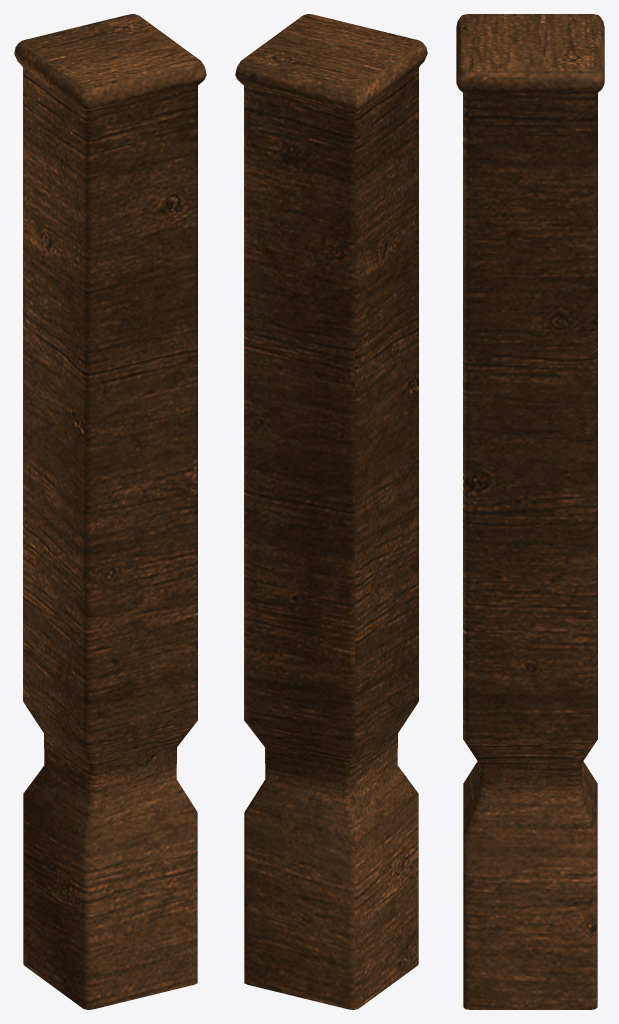
Rendered from MerdivenKorkulukDiregi.fbx.
The picture shows the model from 3 angles, left to right: view 1: azimuth 30°, elevation 25°; view 2: azimuth 150°, elevation 25°; view 3: azimuth 270°, elevation 25°; orthographic projection.
Visible parts, largest first — view 1: Plane.002; view 2: Plane.002; view 3: Plane.002.
Boxes of the visible parts, box(x1,y1,x2,y2) form: Plane.002: box(14, 14, 206, 1009); Plane.002: box(235, 14, 427, 1009); Plane.002: box(456, 14, 604, 1009).
Bounding box in the file's own units: 14.5 × 102 × 14.53.
1 material, 1 textured.
